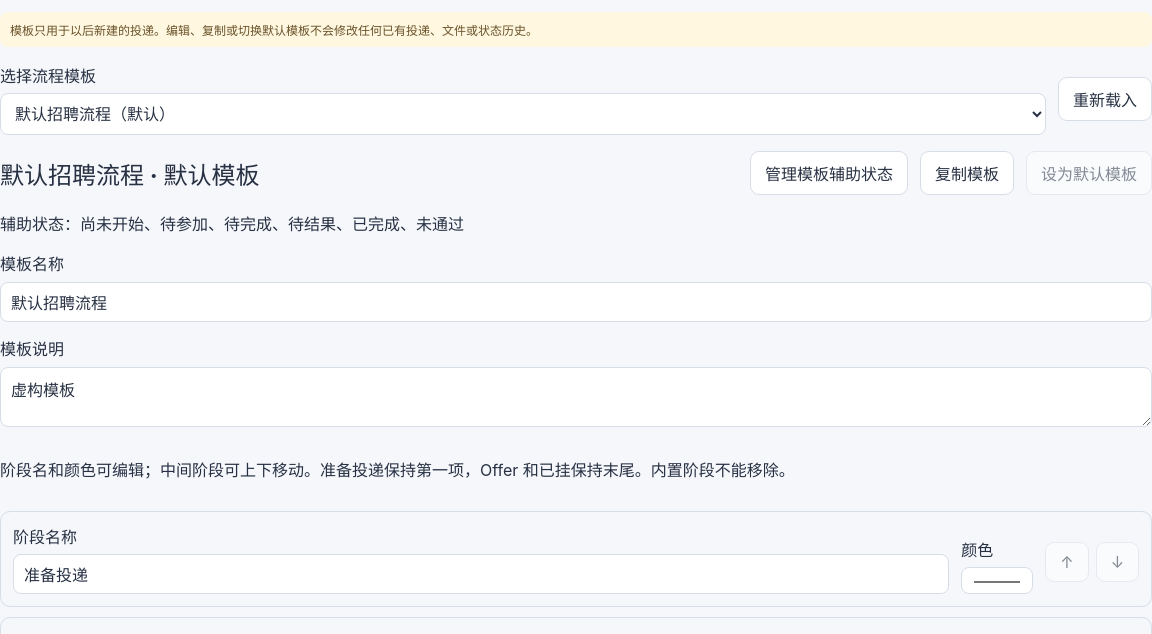
Test case: independent workflow template management › guards selection changes and never removes built-in stage controls
Replace the text in the field labelled "模板名称" with "草稿" at (576, 302), box 0,282 -> 1151,322
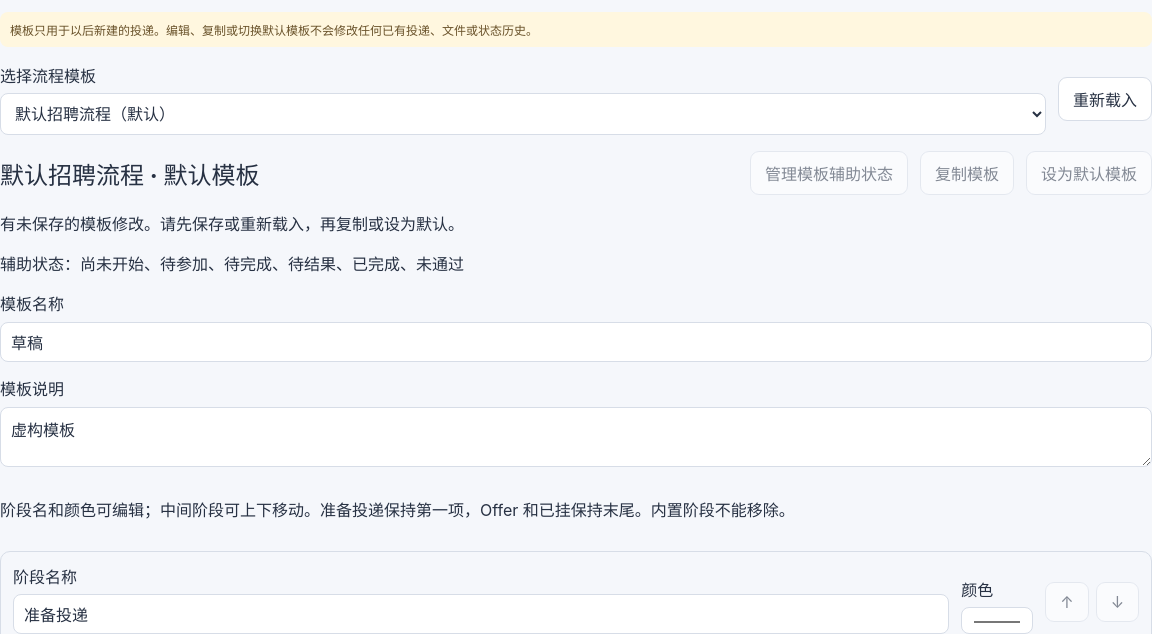
Select "其他流程" in the dropdown labelled "选择流程模板" at (523, 114), box 0,93 -> 1046,135
(page scrolled)
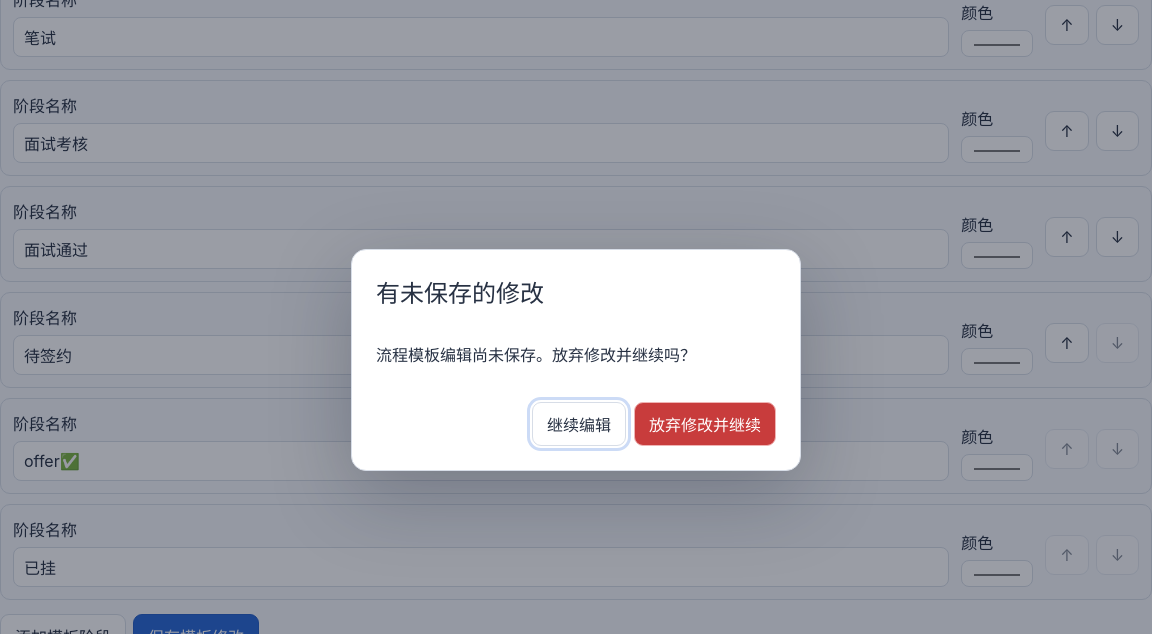
Click the button "继续编辑" at (579, 424), box 532,402 -> 626,446
(page scrolled)
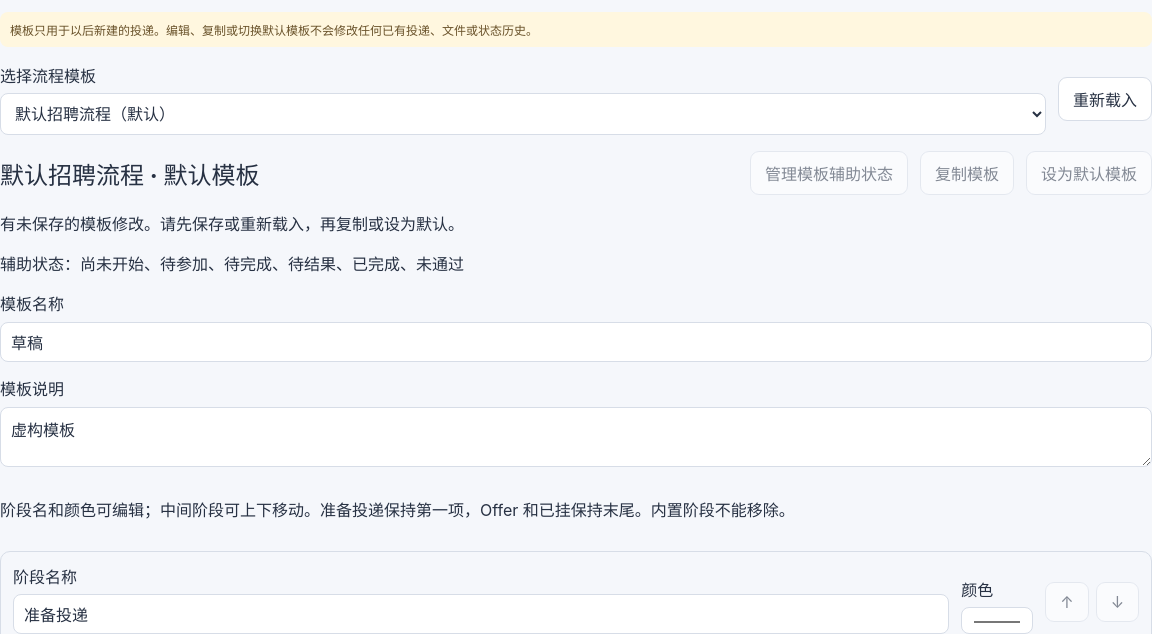
Check: the button named "上移 准备投递" is disabled, box 1045,582 -> 1089,622
Select "其他流程" in the dropdown labelled "选择流程模板" at (523, 114), box 0,93 -> 1046,135
(page scrolled)
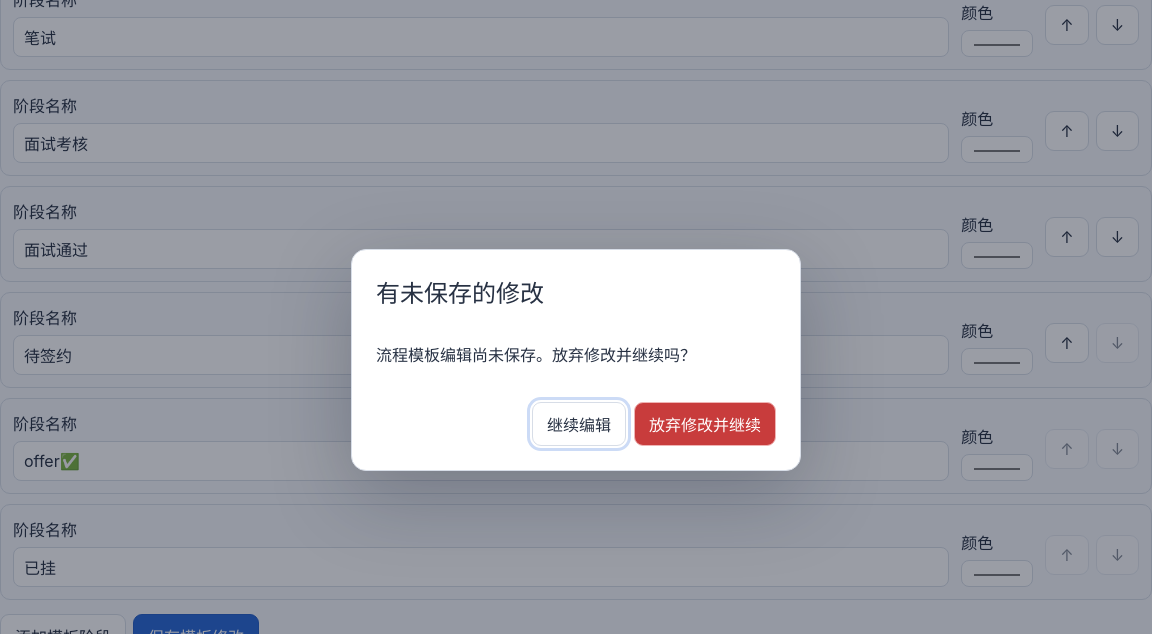
Click the button "放弃修改并继续" at (705, 424), box 634,402 -> 776,446
(page scrolled)
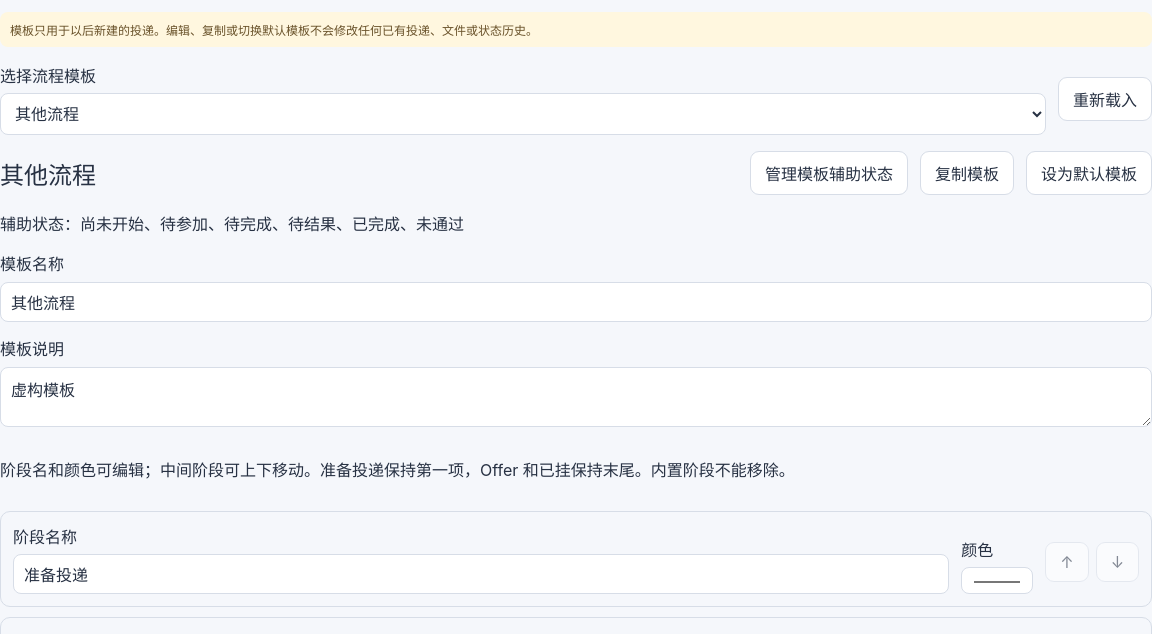
Check: the field labelled "模板名称" holds "其他流程", box 0,282 -> 1151,322
